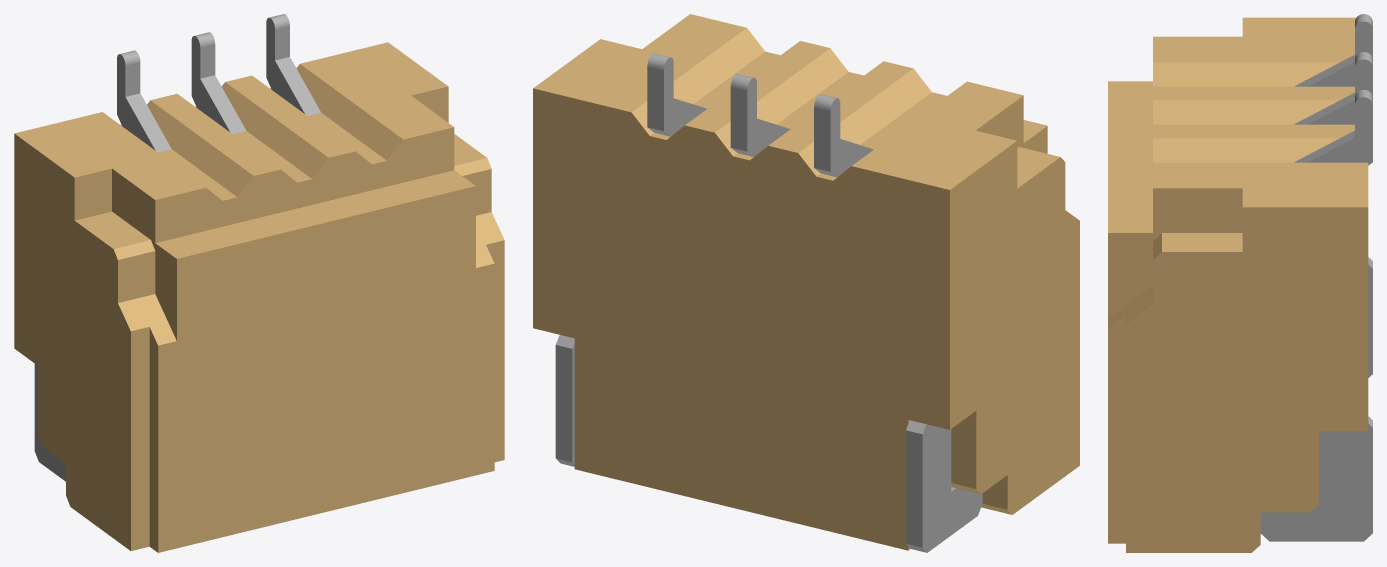
The model's file is jst_sh_sm03b-srss-tb_1x03-1mp_p1.00mm_horizontal.glb.
The picture shows the model from 3 angles, left to right: view 1: azimuth 30°, elevation 25°; view 2: azimuth 150°, elevation 25°; view 3: azimuth 270°, elevation 25°; orthographic projection. The views are drawn at different scales.
Visible parts, largest first — view 1: JST_SH_SM03B-SRSS-TB_1x03-1MP_P1.00mm_Horizontal; view 2: JST_SH_SM03B-SRSS-TB_1x03-1MP_P1.00mm_Horizontal; view 3: JST_SH_SM03B-SRSS-TB_1x03-1MP_P1.00mm_Horizontal.
Part boxes in pixels (x1,y1,x2,y2): JST_SH_SM03B-SRSS-TB_1x03-1MP_P1.00mm_Horizontal: [14, 14, 504, 552]; JST_SH_SM03B-SRSS-TB_1x03-1MP_P1.00mm_Horizontal: [533, 14, 1079, 552]; JST_SH_SM03B-SRSS-TB_1x03-1MP_P1.00mm_Horizontal: [1108, 14, 1372, 552].
Bounding box in the file's own units: 5 × 4.95 × 2.95.
